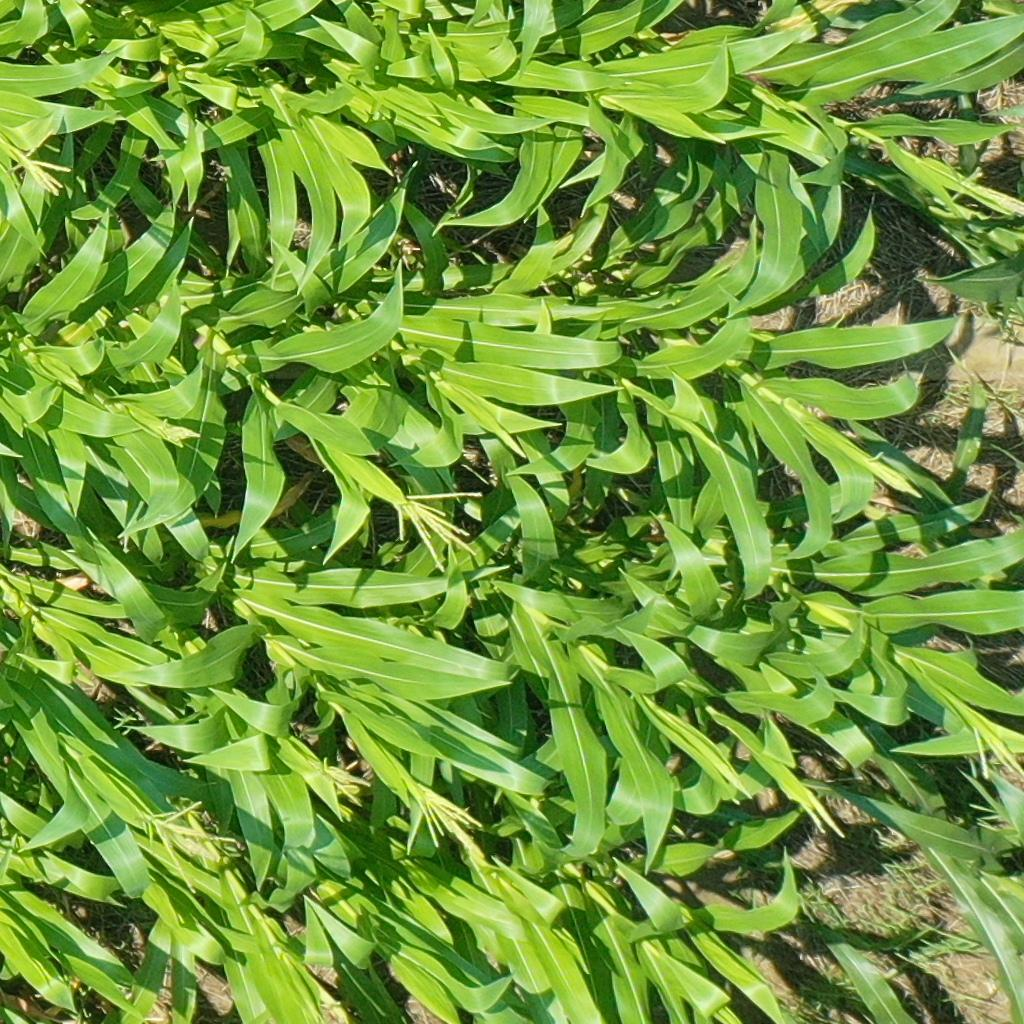Tassel: (139, 797, 239, 888), (396, 480, 489, 575), (410, 783, 489, 858), (963, 165, 1024, 220), (8, 148, 77, 195), (971, 725, 1024, 782), (862, 448, 921, 496), (800, 784, 852, 838), (322, 754, 373, 800), (717, 762, 755, 800), (155, 414, 198, 444)
